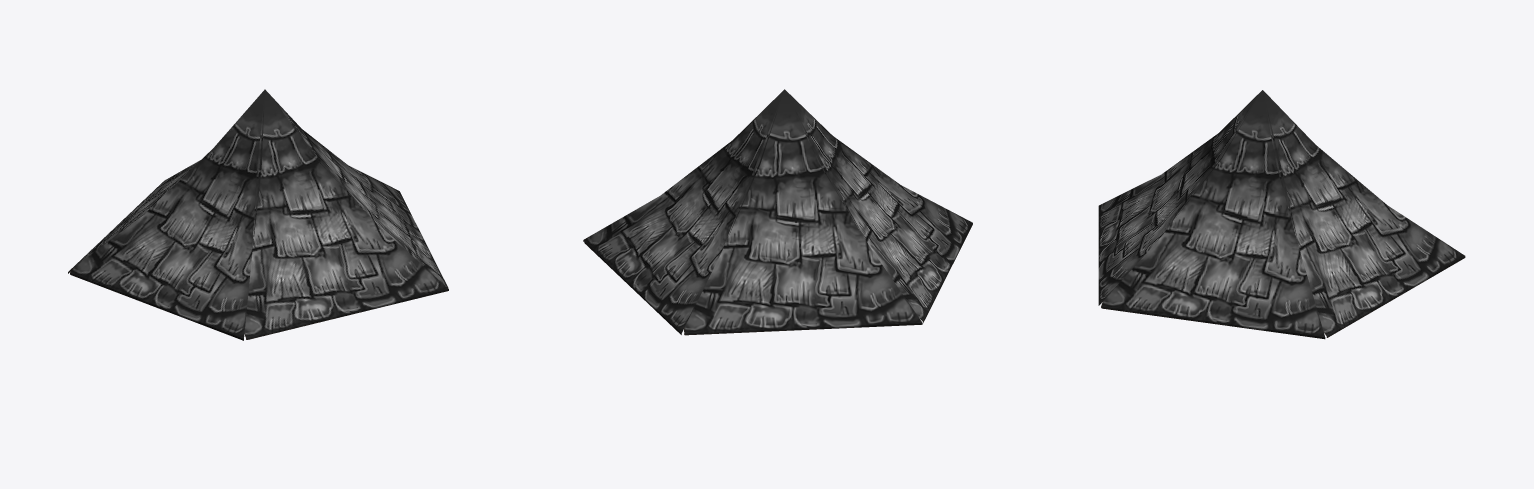
File: o_farm.FBX
The picture shows the model from 3 angles, left to right: view 1: azimuth 30°, elevation 25°; view 2: azimuth 150°, elevation 25°; view 3: azimuth 270°, elevation 25°; orthographic projection. The views are drawn at different scales.
Visible parts, largest first — view 1: o_farm; view 2: o_farm; view 3: o_farm.
Boxes of the visible parts, x1,y1,x2,y2 form: o_farm: (68,89,448,340); o_farm: (583,89,972,335); o_farm: (1098,90,1465,339).
Bounding box in the file's own units: 230 × 198 × 218.
